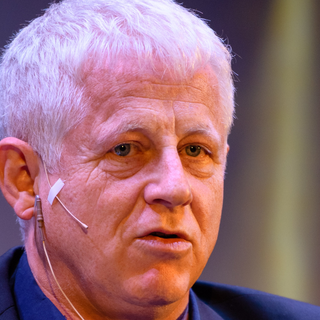eye: (102, 139, 145, 163), (178, 140, 215, 164)
